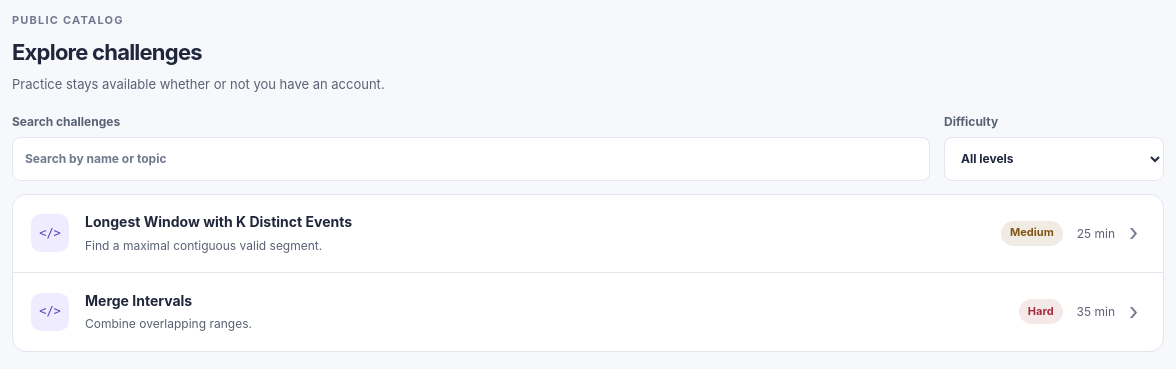
Scenario: ChallengeList › filters the results by difficulty
The image size is (1176, 369).
Select "Hard" in the dropdown named "difficulty": (1054, 159) [944, 137, 1164, 181]
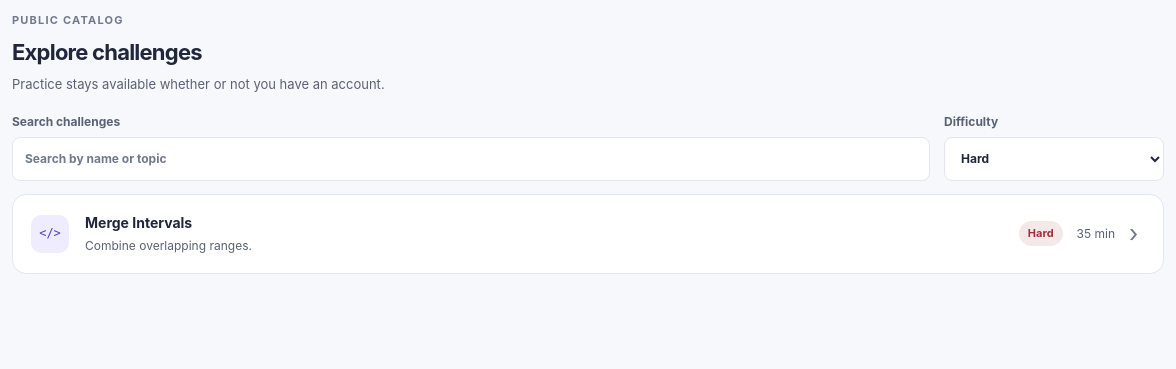
Check: the text "Merge Intervals" is shown, box [85, 214, 192, 231]
Check: the text "Longest Window with K Distinct Events" is gone
